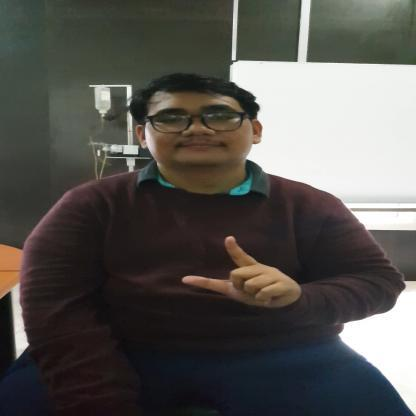L: (182, 235, 302, 312)
